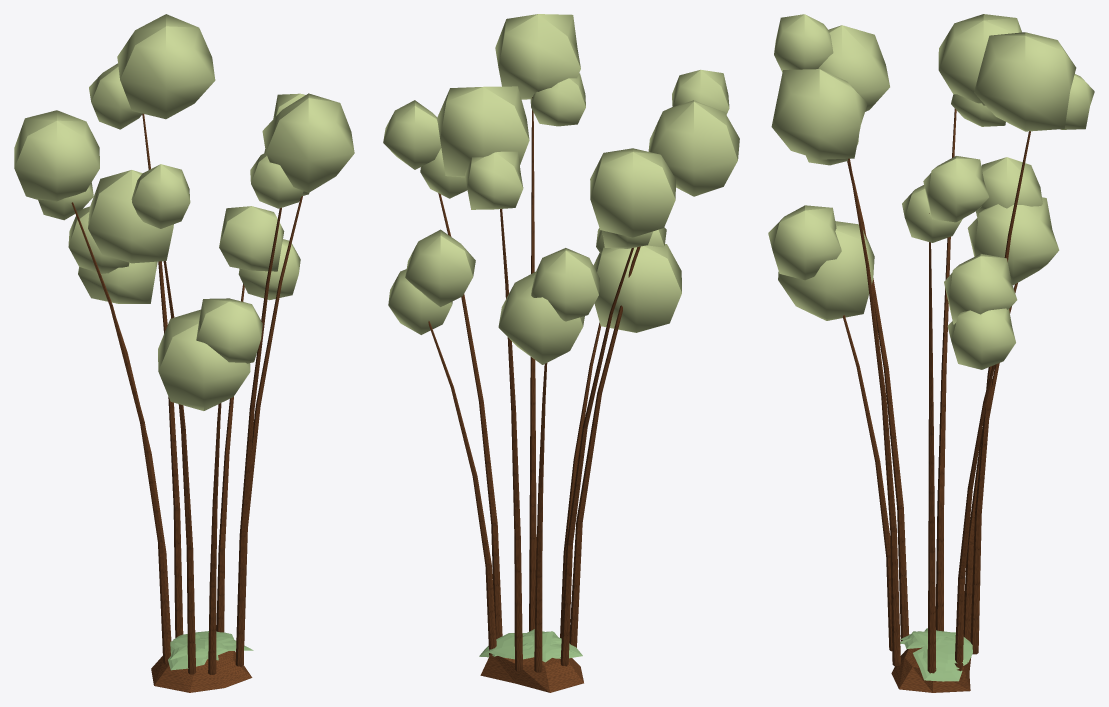
File: dense-temperate-forest-flora-hazel-coppice-stool-fc0d9a4c__28374.glb
3 views of the same model, side by side, from view 1: azimuth 30°, elevation 25°; view 2: azimuth 150°, elevation 25°; view 3: azimuth 270°, elevation 25° (orthographic). The views are drawn at different scales.
Parts seen in each view (by area): view 1: hazel-coppice-stool; view 2: hazel-coppice-stool; view 3: hazel-coppice-stool.
Boxes of the visible parts, left/top/right/bottom form: hazel-coppice-stool: left=14, top=14, right=354, bottom=692; hazel-coppice-stool: left=383, top=14, right=739, bottom=692; hazel-coppice-stool: left=768, top=14, right=1094, bottom=692.
Size of the model in its own units: 2.74 by 5.31 by 2.45.
3 materials, 1 textured.
